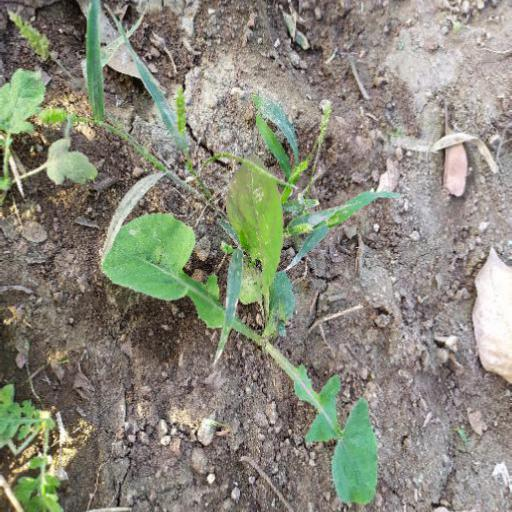weed: (18, 36, 433, 508)
